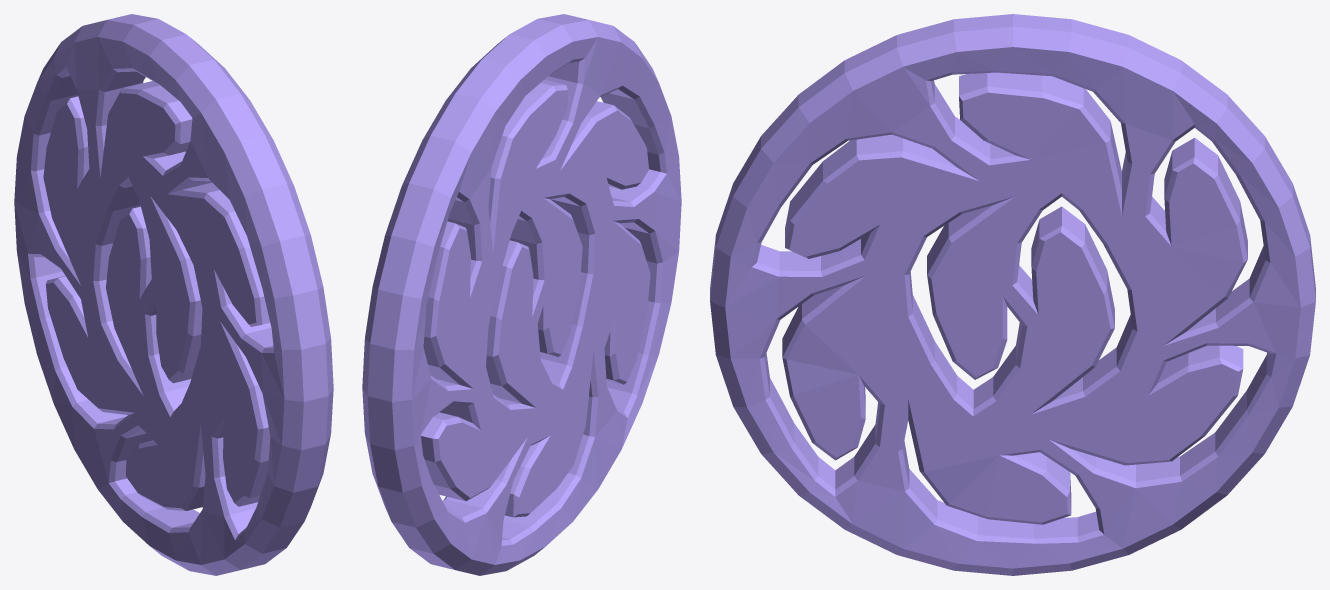
Rendered from flowercoin.fbx.
3 renders of one model, left to right at view 1: azimuth 30°, elevation 25°; view 2: azimuth 150°, elevation 25°; view 3: azimuth 270°, elevation 25°, orthographic. The views are drawn at different scales.
Visible parts, largest first — view 1: flower; view 2: flower; view 3: flower.
Boxes of the visible parts, x1,y1,x2,y2 form: flower: (14,14,333,575); flower: (362,14,681,575); flower: (710,14,1315,575).
Size of the model in its own units: 66 by 660 by 660.
1 material, 1 textured.
